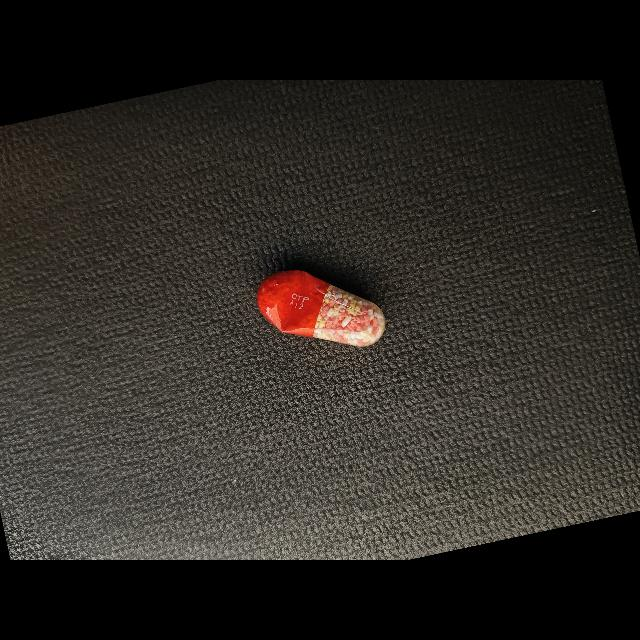Defective Capsule: (258, 270, 386, 347)
